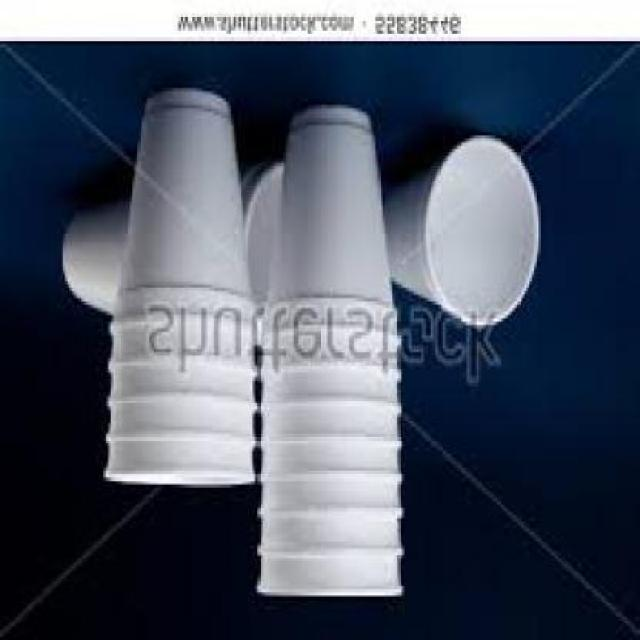PAPER: (255, 115, 397, 599), (99, 92, 250, 494), (60, 163, 285, 339), (106, 88, 248, 346), (259, 104, 395, 338), (382, 142, 540, 332)
